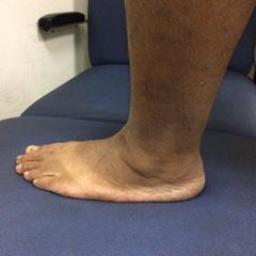Lateral View -Left Foot-: (10, 91, 232, 210)
